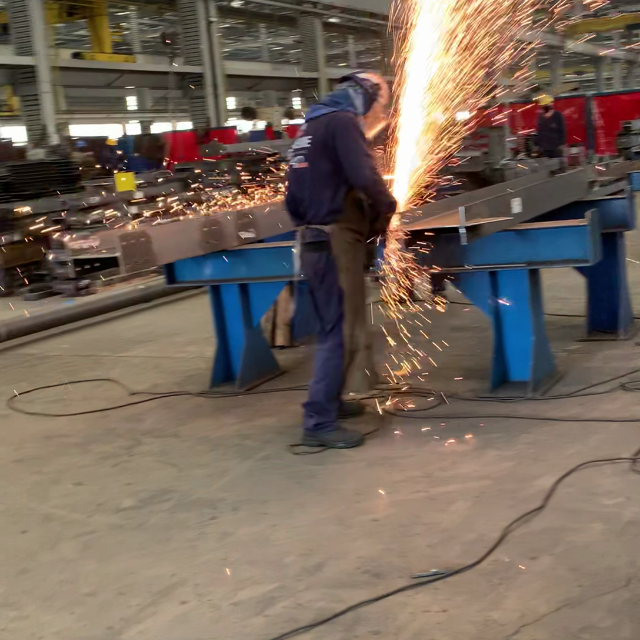face-shield: (360, 105, 394, 141)
helmet: (338, 70, 393, 115)
person: (285, 71, 396, 450)
safety-shoe: (300, 422, 366, 449), (335, 398, 369, 419)
